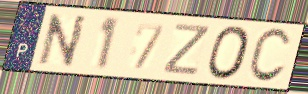1: (96, 15, 121, 72)
7: (131, 22, 166, 71)
C: (245, 26, 294, 85)
N: (36, 12, 90, 69)
O: (206, 24, 252, 82)
Z: (160, 22, 213, 78)
